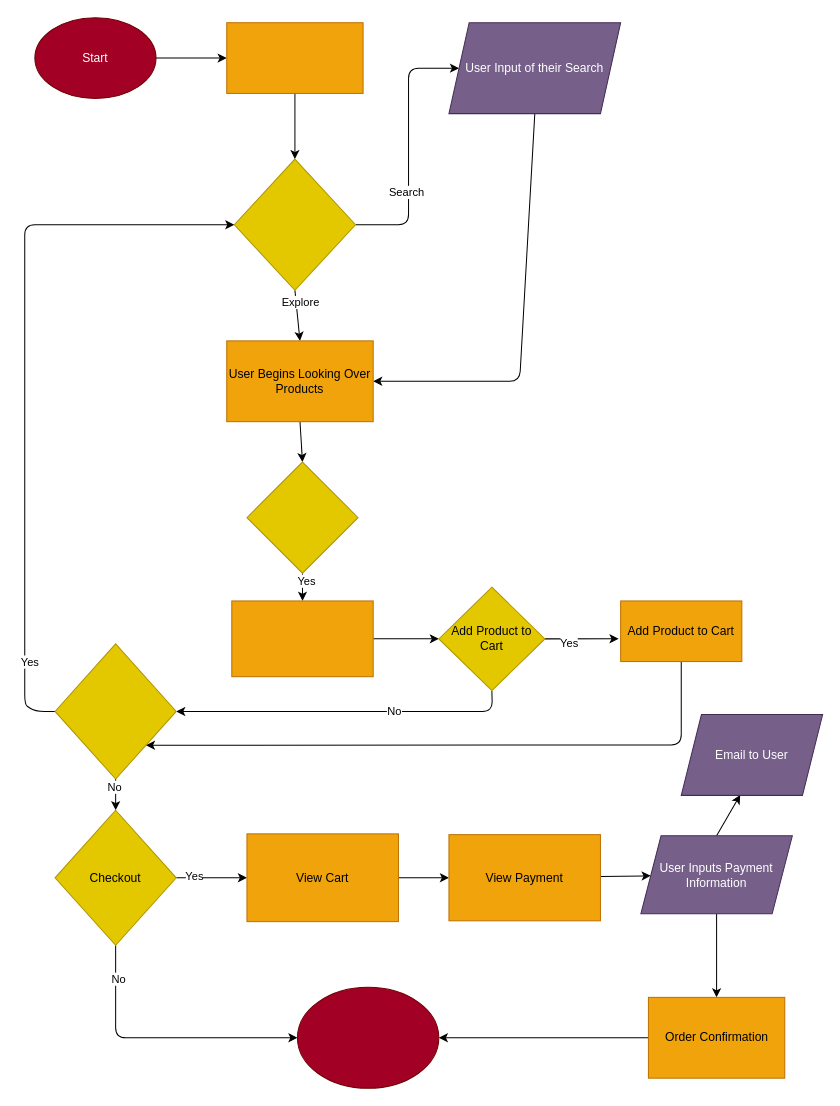
Some shapes in this 840 by 1106 pixel diagram are drawn without their labels. Each missing label, with the centre of its shape:
"Continue Shopping" belongs at [115,711].
"Leave Website" belongs at [367,1037].
"Open Product Webpage" belongs at [302,638].
"Search/Explore Products" belongs at [294,224].
"User Enters Website" belongs at [294,57].
"View Specific Product" belongs at [302,517].
